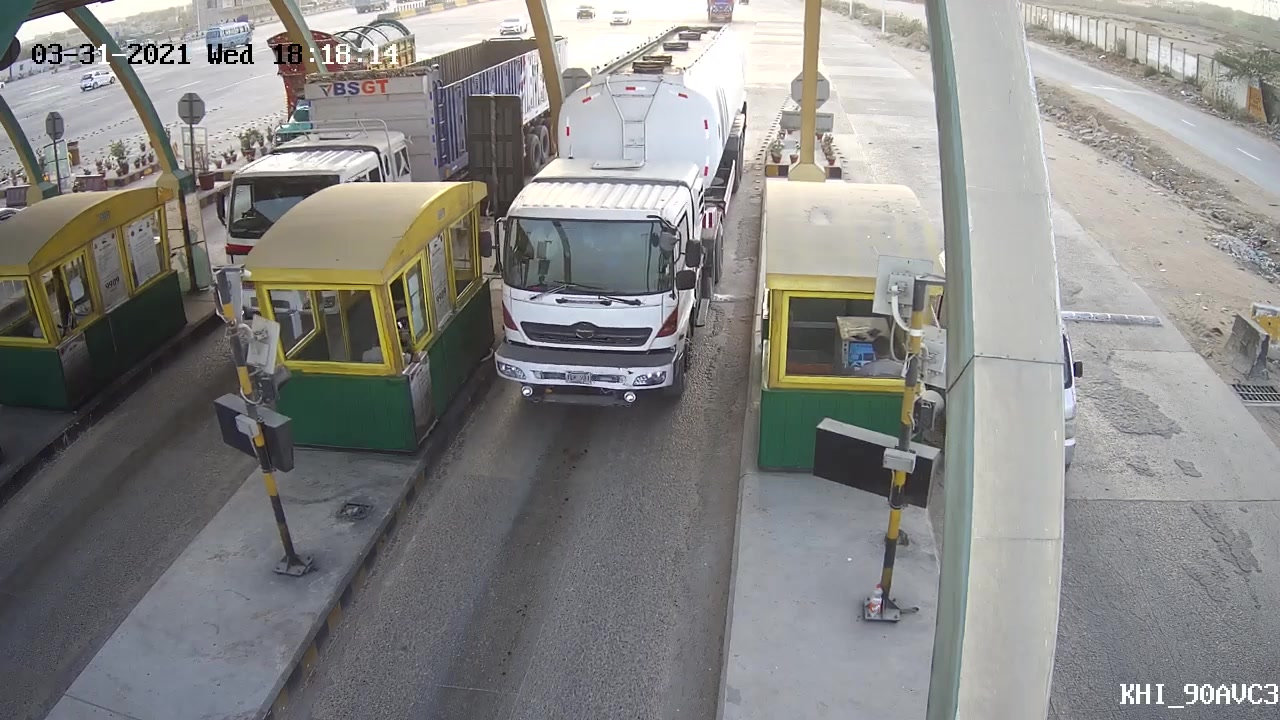F6: (473, 23, 750, 411)
